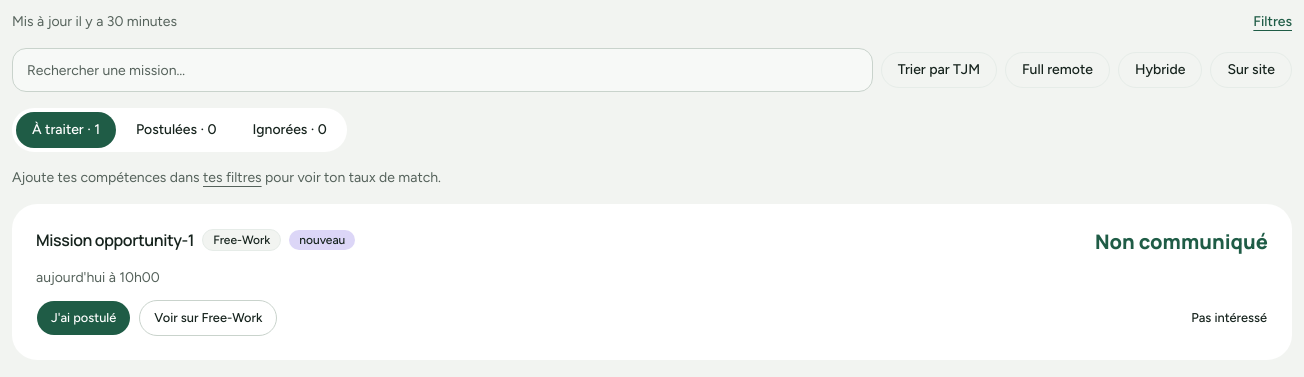
Test: OpportunitiesBoard › shows « Création… » on the apply button while the application is being created
Click the button "J'ai postulé" at (84, 318), box [36,300,131,336]
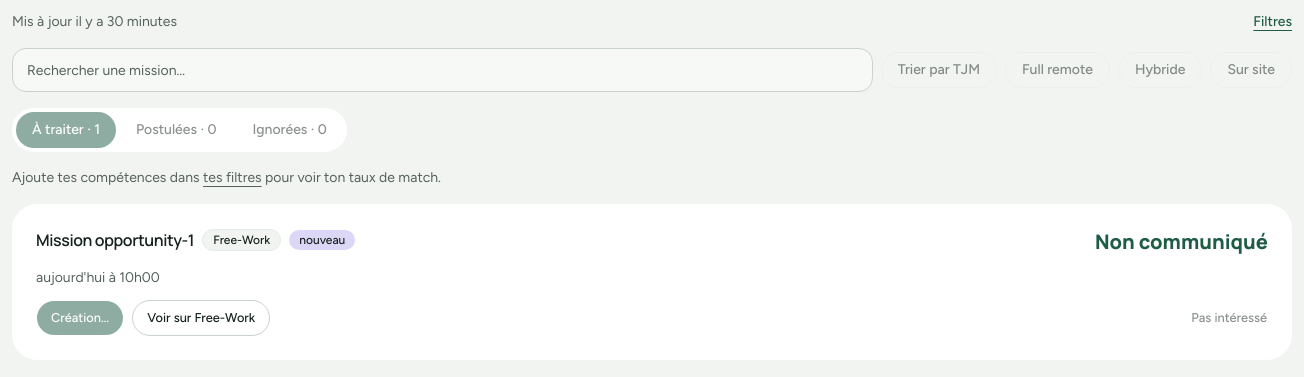
Expected: the button "Création…" is disabled, [36,300,124,336]
Expected: the button "J'ai postulé" is gone
